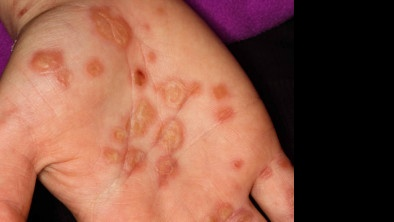SJS-TEN: (0, 0, 326, 222)
